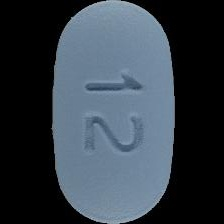13107-156: (0, 0, 224, 224)
